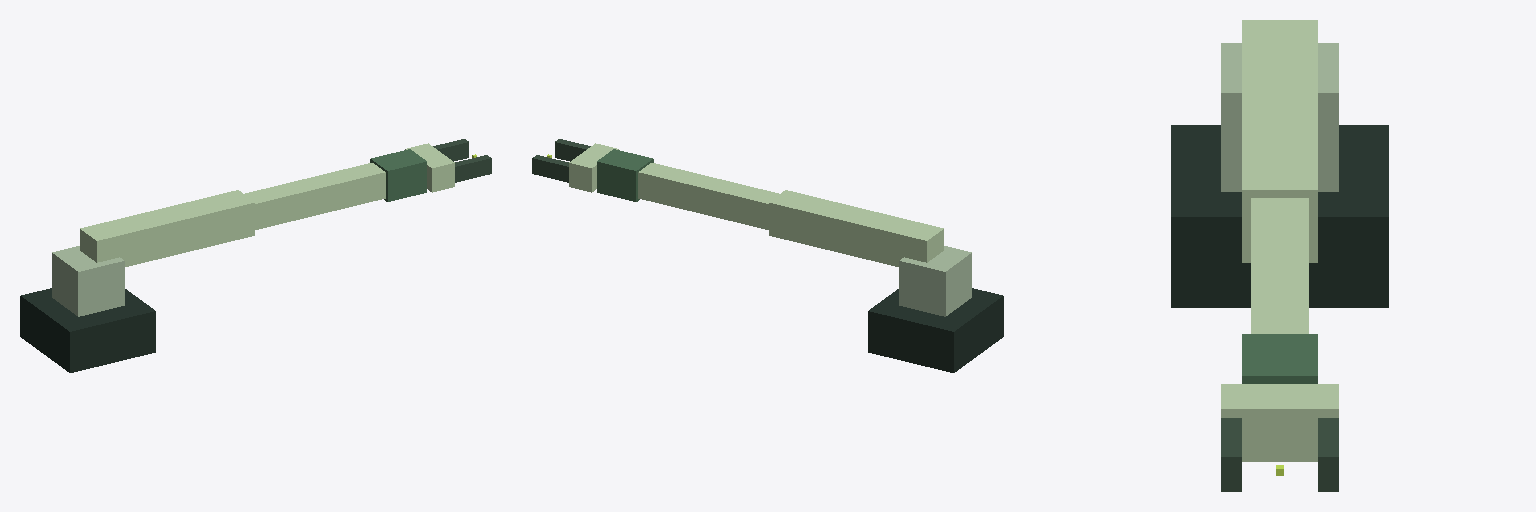
robot.urdf — teaching_arm_not_CAD_conversion:
<robot name="teaching_arm_not_CAD_conversion">
  <mujoco>
    <compiler discardvisual="false" fusestatic="false" balanceinertia="true" />
  </mujoco>
  <link name="base">
    <inertial>
      <origin xyz="0 0 0.03" />
      <mass value="0.2" />
      <inertia ixx="0.001" iyy="0.001" izz="0.001" ixy="0" ixz="0" iyz="0" />
    </inertial>
    <visual>
      <origin xyz="0 0 0.03" />
      <geometry>
        <box size="0.13 0.13 0.06" />
      </geometry>
      <material name="base">
        <color rgba="0.19 0.25 0.22 1" />
      </material>
    </visual>
  </link>
  <link name="turntable">
    <inertial>
      <origin xyz="0 0 0.025" />
      <mass value="0.2" />
      <inertia ixx="0.001" iyy="0.001" izz="0.001" ixy="0" ixz="0" iyz="0" />
    </inertial>
    <visual>
      <origin xyz="0 0 0.025" />
      <geometry>
        <box size="0.07 0.07 0.065" />
      </geometry>
      <material name="turntable">
        <color rgba="0.7 0.78 0.67 1" />
      </material>
    </visual>
  </link>
  <link name="upper_arm">
    <inertial>
      <origin xyz="0.12 0 0" />
      <mass value="0.2" />
      <inertia ixx="0.001" iyy="0.001" izz="0.001" ixy="0" ixz="0" iyz="0" />
    </inertial>
    <visual>
      <origin xyz="0.12 0 0" />
      <geometry>
        <box size="0.24 0.045 0.048" />
      </geometry>
      <material name="upper_arm">
        <color rgba="0.76 0.85 0.7 1" />
      </material>
    </visual>
  </link>
  <link name="forearm">
    <inertial>
      <origin xyz="0.10 0 0" />
      <mass value="0.2" />
      <inertia ixx="0.001" iyy="0.001" izz="0.001" ixy="0" ixz="0" iyz="0" />
    </inertial>
    <visual>
      <origin xyz="0.10 0 0" />
      <geometry>
        <box size="0.20 0.035 0.038" />
      </geometry>
      <material name="forearm">
        <color rgba="0.76 0.85 0.7 1" />
      </material>
    </visual>
  </link>
  <link name="wrist">
    <inertial>
      <origin xyz="0.03 0 0" />
      <mass value="0.2" />
      <inertia ixx="0.001" iyy="0.001" izz="0.001" ixy="0" ixz="0" iyz="0" />
    </inertial>
    <visual>
      <origin xyz="0.03 0 0" />
      <geometry>
        <box size="0.06 0.045 0.045" />
      </geometry>
      <material name="wrist">
        <color rgba="0.35 0.49 0.38 1" />
      </material>
    </visual>
  </link>
  <link name="gripper">
    <inertial>
      <origin xyz="0.0175 0 0" />
      <mass value="0.2" />
      <inertia ixx="0.001" iyy="0.001" izz="0.001" ixy="0" ixz="0" iyz="0" />
    </inertial>
    <visual>
      <origin xyz="0.0175 0 0" />
      <geometry>
        <box size="0.035 0.07 0.035" />
      </geometry>
      <material name="gripper">
        <color rgba="0.76 0.85 0.7 1" />
      </material>
    </visual>
    <visual>
      <origin xyz="0.06 -0.029 0" />
      <geometry>
        <box size="0.06 0.012 0.023" />
      </geometry>
      <material name="finger-0.029">
        <color rgba="0.28 0.36 0.30 1" />
      </material>
    </visual>
    <visual>
      <origin xyz="0.06 0.029 0" />
      <geometry>
        <box size="0.06 0.012 0.023" />
      </geometry>
      <material name="finger0.029">
        <color rgba="0.28 0.36 0.30 1" />
      </material>
    </visual>
  </link>
  <link name="tool">
    <inertial>
      <origin xyz="0 0 0" />
      <mass value="0.2" />
      <inertia ixx="0.001" iyy="0.001" izz="0.001" ixy="0" ixz="0" iyz="0" />
    </inertial>
    <visual>
      <origin xyz="0 0 0" />
      <geometry>
        <box size="0.005 0.005 0.005" />
      </geometry>
      <material name="tool">
        <color rgba="0.8 0.93 0.37 1" />
      </material>
    </visual>
  </link>
  <joint name="base_yaw" type="revolute">
    <parent link="base" />
    <child link="turntable" />
    <origin xyz="0 0 0.07" rpy="0 0 0" />
    <axis xyz="0 0 1" />
    <limit lower="-3.14159" upper="3.14159" effort="10" velocity="2" />
  </joint>
  <joint name="shoulder" type="revolute">
    <parent link="turntable" />
    <child link="upper_arm" />
    <origin xyz="0 0 0.065" rpy="0 0 0" />
    <axis xyz="0 1 0" />
    <limit lower="-1.7" upper="1.7" effort="10" velocity="2" />
  </joint>
  <joint name="elbow" type="revolute">
    <parent link="upper_arm" />
    <child link="forearm" />
    <origin xyz="0.24 0 0" rpy="0 0 0" />
    <axis xyz="0 1 0" />
    <limit lower="-2.6" upper="2.6" effort="10" velocity="2" />
  </joint>
  <joint name="wrist_pitch" type="revolute">
    <parent link="forearm" />
    <child link="wrist" />
    <origin xyz="0.20 0 0" rpy="0 0 0" />
    <axis xyz="0 1 0" />
    <limit lower="-1.8" upper="1.8" effort="10" velocity="2" />
  </joint>
  <joint name="wrist_roll" type="revolute">
    <parent link="wrist" />
    <child link="gripper" />
    <origin xyz="0.06 0 0" rpy="0 0 0" />
    <axis xyz="1 0 0" />
    <limit lower="-3.14159" upper="3.14159" effort="10" velocity="2" />
  </joint>
  <joint name="tool_mount" type="fixed">
    <parent link="gripper" />
    <child link="tool" />
    <origin xyz="0.085 0 0" rpy="0 0 0" />
    <axis xyz="1 0 0" />
  </joint>
</robot>

--- What the picture shows (computed from the rendered views, not written in the file) ---
Views: 3 orthographic renders of the robot side by side, from view 1: azimuth 30°, elevation 25°; view 2: azimuth 150°, elevation 25°; view 3: azimuth 270°, elevation 25°.
Robot: teaching_arm_not_CAD_conversion — 7 links, 6 joints (5 revolute, 1 fixed); root link base; default pose: all joints at 0.
Links seen in each view (by area): view 1: upper_arm, base, forearm, turntable, gripper, wrist; view 2: upper_arm, base, forearm, turntable, gripper, wrist; view 3: base, upper_arm, gripper, forearm, turntable, wrist.
Link boxes in pixels (box(x1,y1,x2,y2)): upper_arm: box(80, 190, 254, 266); base: box(20, 288, 155, 372); forearm: box(245, 163, 385, 229); turntable: box(52, 246, 124, 316); gripper: box(405, 139, 491, 192); wrist: box(370, 149, 426, 201); upper_arm: box(769, 190, 943, 266); base: box(868, 288, 1003, 372); forearm: box(638, 163, 778, 229); turntable: box(899, 246, 971, 316); gripper: box(532, 139, 618, 192); wrist: box(597, 149, 653, 201); base: box(1171, 125, 1388, 307); upper_arm: box(1242, 20, 1317, 262); gripper: box(1221, 384, 1338, 491); forearm: box(1251, 198, 1308, 333); turntable: box(1221, 43, 1338, 191); wrist: box(1242, 334, 1317, 383).
Size in the robot's own frame: 0.655 by 0.13 by 0.159 metres.
Geometry: primitives only (box / cylinder / sphere), no mesh files.
